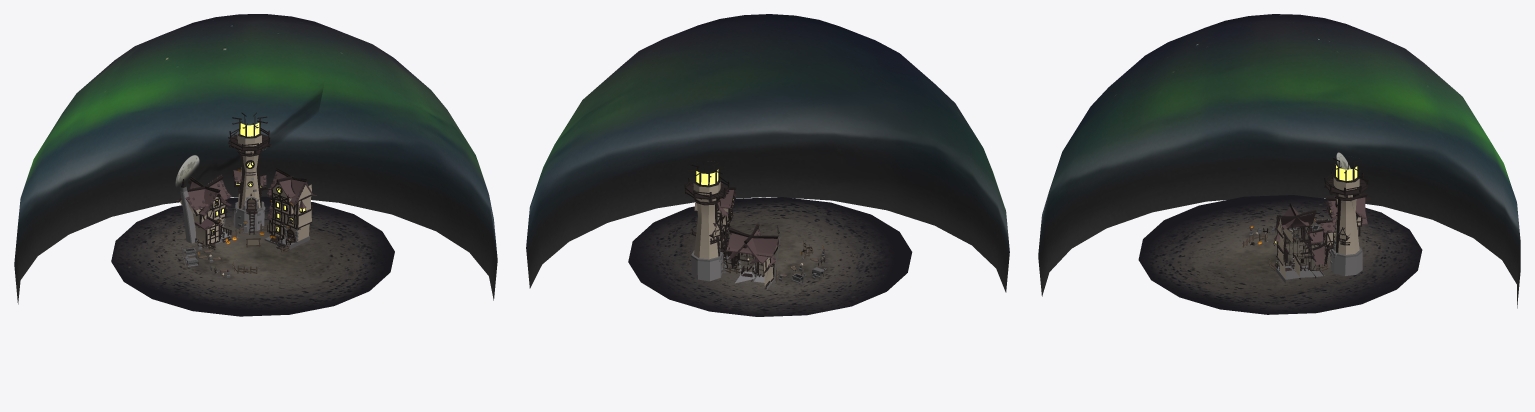
Rendered from village.gltf.
3 views of the same model, side by side, from view 1: azimuth 30°, elevation 25°; view 2: azimuth 150°, elevation 25°; view 3: azimuth 270°, elevation 25° (orthographic).
Visible parts, largest first — view 1: Sky, Ground, Village_Meshes, Smoke.001; view 2: Sky, Ground, Village_Meshes; view 3: Sky, Ground, Village_Meshes.
Part boxes in pixels (x1,y1,x2,y2): Sky: [14, 14, 497, 304]; Ground: [111, 196, 394, 316]; Village_Meshes: [175, 112, 316, 277]; Smoke.001: [193, 89, 322, 183]; Sky: [526, 14, 1009, 292]; Ground: [628, 197, 912, 316]; Village_Meshes: [684, 161, 826, 289]; Sky: [1038, 14, 1520, 308]; Ground: [1138, 195, 1422, 314]; Village_Meshes: [1242, 156, 1370, 283].
Bounding box in the file's own units: 91.73 × 54.67 × 91.55.
Materials: 7 (5 with a texture image).
